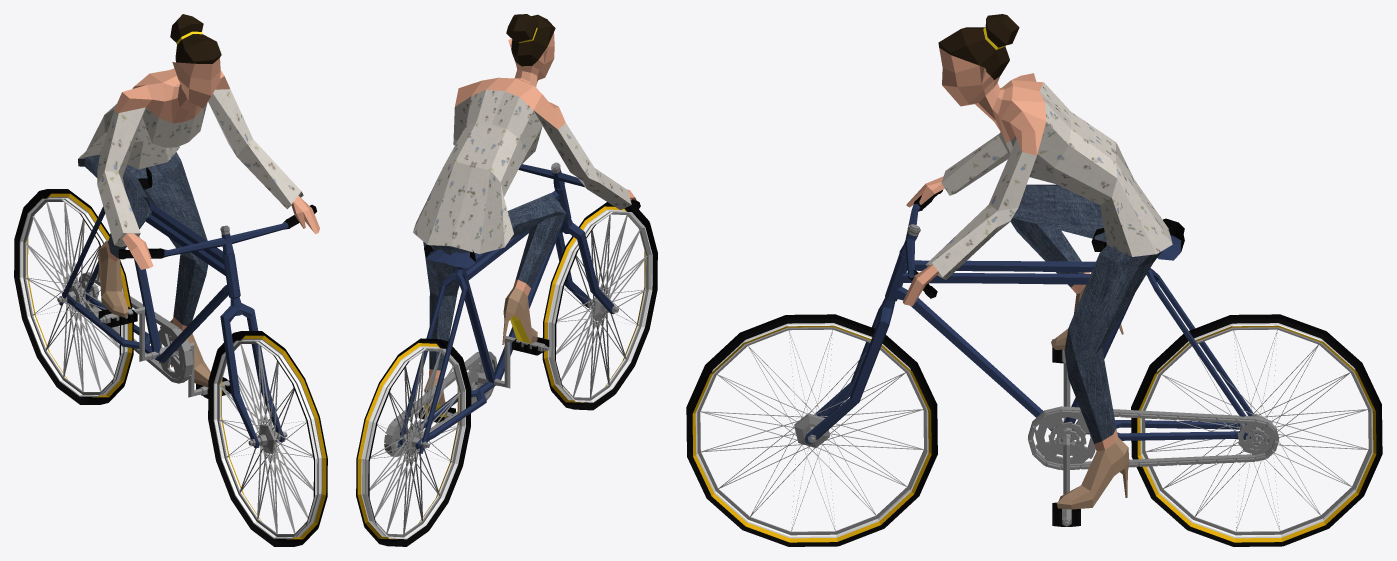
File: SpringWomanA.001.glb
3 views of the same model, side by side, from view 1: azimuth 30°, elevation 25°; view 2: azimuth 150°, elevation 25°; view 3: azimuth 270°, elevation 25° (orthographic). The views are drawn at different scales.
Parts seen in each view (by area): view 1: SpringWomanA.001; view 2: SpringWomanA.001; view 3: SpringWomanA.001.
Boxes of the visible parts, x1,y1,x2,y2 form: SpringWomanA.001: [14, 14, 327, 546]; SpringWomanA.001: [356, 14, 657, 546]; SpringWomanA.001: [686, 14, 1382, 546].
Size of the model in its own units: 0.7301 by 1.65 by 1.97.
6 materials, 1 textured.
